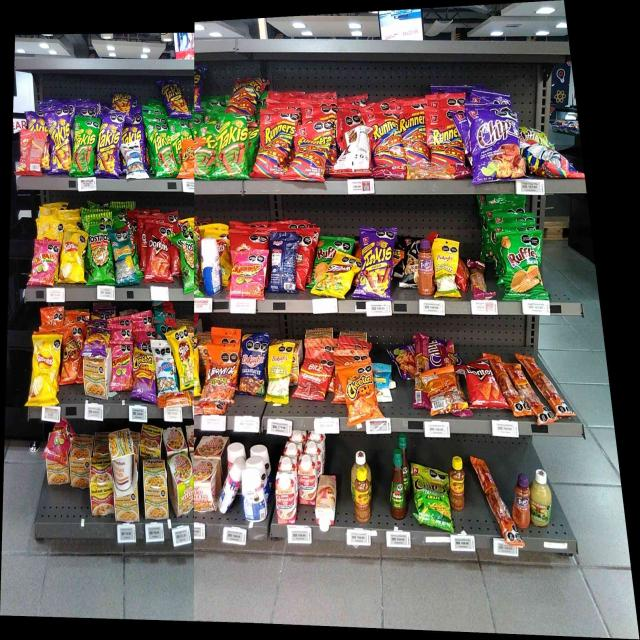bitzAlmendras: (373, 361, 392, 401)
bitzEnchilado90: (302, 355, 325, 400)
bitzEnchilado95: (498, 360, 558, 422), (480, 456, 502, 506), (159, 389, 192, 408)
bitzHabanero: (469, 259, 488, 299), (414, 331, 428, 369), (442, 342, 456, 367)
bokadosCacahuates: (271, 233, 296, 293), (242, 342, 266, 394)
botaneraChilito: (353, 466, 371, 522), (449, 456, 465, 511)
cheetosFlaminHot: (133, 344, 153, 401), (84, 331, 108, 356)
cheetosOriginal: (345, 359, 373, 419), (62, 329, 82, 382), (183, 144, 194, 178)
chipsFuego: (472, 110, 516, 178), (429, 338, 441, 368)
chipsPapatinas: (413, 461, 448, 530)
churrumais: (233, 256, 264, 294), (112, 342, 132, 390), (32, 243, 54, 285), (49, 421, 70, 455)
delPrimoSalsa: (530, 468, 552, 526), (513, 471, 530, 528)
doritosNacho: (464, 364, 496, 406), (148, 230, 169, 278)
fritosLimon: (321, 262, 354, 293), (177, 334, 194, 384)
leoCacahuates: (154, 337, 173, 389), (124, 144, 146, 179)
leoMix: (205, 362, 237, 403)
maruchanPollo: (142, 458, 167, 520), (111, 432, 136, 485), (83, 358, 108, 400), (70, 436, 89, 488), (112, 488, 140, 522), (46, 456, 69, 485)
maruchanRes: (90, 455, 110, 516)
nestleCarnation: (275, 468, 297, 523), (316, 472, 336, 531), (297, 451, 315, 505)
nestleLechera: (201, 237, 222, 295), (241, 467, 263, 521), (219, 459, 240, 513)
nissinCamaron: (170, 453, 193, 514)
nissinRes: (194, 458, 218, 513)
popKarameladas: (402, 236, 418, 287)
productoAtras: (332, 128, 371, 178), (428, 370, 456, 411), (19, 135, 42, 176)
rufflesQueso: (506, 235, 540, 299), (316, 240, 338, 260)
runners: (263, 112, 294, 174), (370, 116, 400, 174), (428, 113, 456, 173), (298, 126, 330, 178), (400, 110, 426, 171), (230, 81, 260, 112)
sabritasOriginal: (32, 343, 59, 404), (61, 237, 83, 282)
salsaBufalo: (390, 448, 408, 519)
semillasCalabaza: (435, 239, 458, 297), (269, 348, 289, 402)
semillasGirasol: (114, 233, 131, 282)
tajinDulce: (419, 240, 434, 295)
takisFuego: (361, 236, 391, 295), (48, 110, 70, 170), (98, 122, 120, 173), (162, 82, 183, 115), (112, 91, 131, 119), (122, 124, 144, 142), (28, 112, 48, 130)
takisOriginal: (218, 117, 248, 175), (74, 120, 95, 174), (149, 124, 170, 176), (198, 126, 216, 172), (171, 123, 182, 162)
tostitos: (88, 233, 111, 280), (180, 238, 194, 290)
